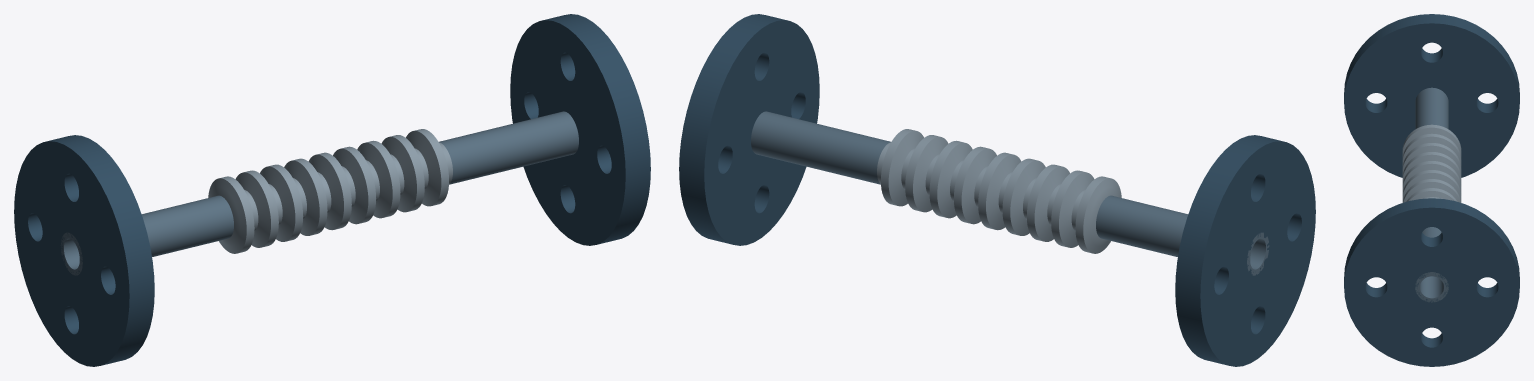
The model's file is flan-dn15-L290-D21_3-f-o95.glb.
3 views of the same model, side by side, from view 1: azimuth 30°, elevation 25°; view 2: azimuth 150°, elevation 25°; view 3: azimuth 270°, elevation 25° (orthographic). The views are drawn at different scales.
Parts seen in each view (by area): view 1: homut_flanec_1, homut_flanec_2, prokladka_silfon_1, patrubok_2, patrubok_1; view 2: homut_flanec_1, homut_flanec_2, prokladka_silfon_1, patrubok_2, patrubok_1; view 3: homut_flanec_2, homut_flanec_1, prokladka_silfon_1, patrubok_1, patrubok_2.
Part boxes in pixels (x1,y1,x2,y2): homut_flanec_1: (14, 135, 154, 366); homut_flanec_2: (510, 14, 650, 245); prokladka_silfon_1: (208, 129, 452, 253); patrubok_2: (439, 111, 578, 184); patrubok_1: (60, 195, 233, 275); homut_flanec_1: (1175, 135, 1315, 366); homut_flanec_2: (679, 14, 819, 245); prokladka_silfon_1: (877, 129, 1121, 253); patrubok_2: (751, 111, 890, 184); patrubok_1: (1096, 195, 1269, 275); homut_flanec_2: (1344, 198, 1519, 366); homut_flanec_1: (1344, 14, 1519, 177); prokladka_silfon_1: (1402, 124, 1461, 202); patrubok_1: (1415, 87, 1448, 129); patrubok_2: (1415, 227, 1448, 302).
Size of the model in its own units: 290 by 111 by 111.
